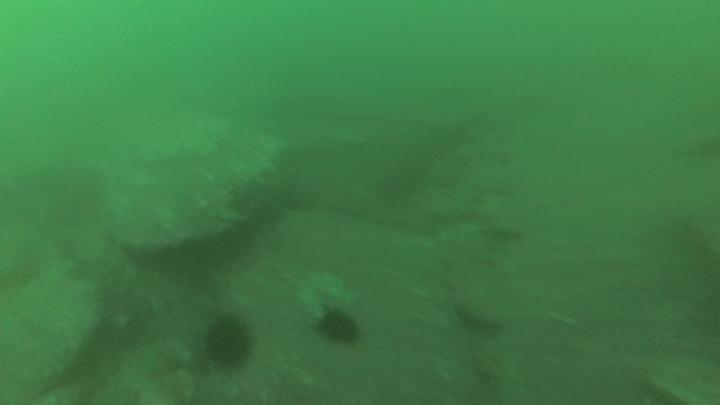echinus: (205, 318, 254, 365), (319, 312, 360, 344)
